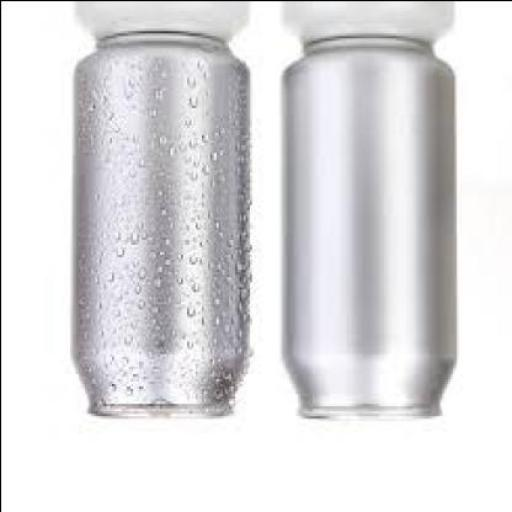metal: (74, 35, 256, 423), (284, 35, 458, 423)
